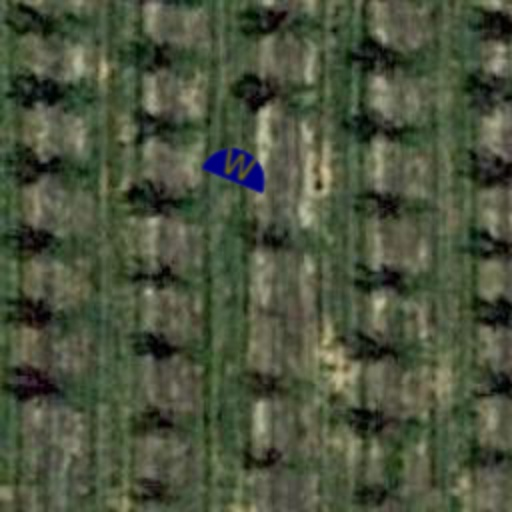semicircle: (194, 122, 282, 210)
